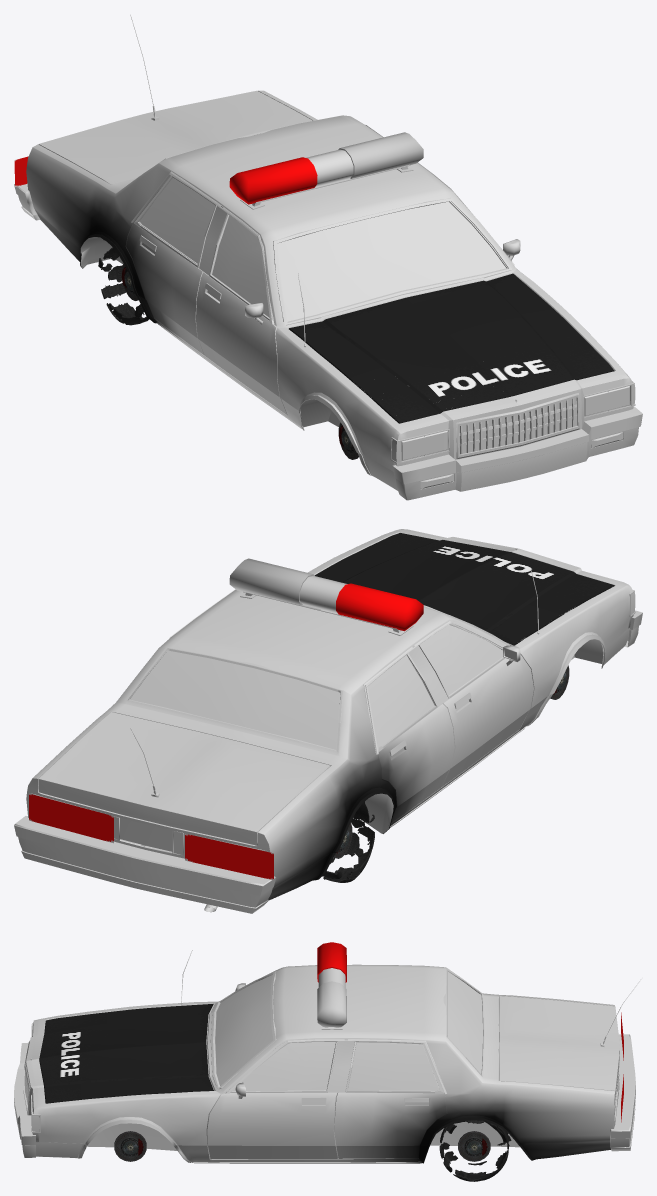
File: 14_PoliceCar.fbx
3 views of the same model, one above another, from view 1: azimuth 30°, elevation 25°; view 2: azimuth 150°, elevation 25°; view 3: azimuth 270°, elevation 25° (orthographic). The views are drawn at different scales.
Visible parts, largest first — view 1: Body_Duco, Kit_00_duco, Body_Glass, Body_Chrome, Body_Matte, Body_Glossy, RedLight, BlueLight, Kit_Chrome; view 2: Body_Duco, Body_Glass, Body_Chrome, Kit_00_duco, BrakeLights, RedLight, BlueLight, Kit_Chrome, Body_Matte; view 3: Body_Duco, Kit_00_duco, Body_Glass, Body_Chrome, Body_Matte, Rotor (×2), BlueLight, RedLight, Kit_Chrome.
Part boxes in pixels (box(x1,y1,x2,y2)): Body_Duco: box(26, 90, 633, 490); Kit_00_duco: box(289, 273, 614, 423); Body_Glass: box(139, 178, 505, 321); Body_Chrome: box(14, 115, 642, 500); Body_Matte: box(43, 223, 577, 490); Body_Glossy: box(391, 384, 635, 488); RedLight: box(229, 157, 317, 204); BlueLight: box(338, 132, 423, 178); Kit_Chrome: box(130, 14, 413, 209); Body_Duco: box(26, 529, 633, 900); Body_Glass: box(130, 623, 502, 749); Body_Chrome: box(14, 571, 642, 913); Kit_00_duco: box(315, 533, 614, 645); BrakeLights: box(29, 793, 273, 880); RedLight: box(336, 583, 423, 631); BlueLight: box(229, 558, 314, 605); Kit_Chrome: box(130, 575, 413, 797); Body_Matte: box(120, 639, 623, 912); Body_Duco: box(25, 964, 619, 1162); Kit_00_duco: box(39, 1004, 213, 1103); Body_Glass: box(215, 971, 481, 1092); Body_Chrome: box(14, 950, 635, 1163); Body_Matte: box(39, 1077, 519, 1157); Rotor (×2): box(114, 1131, 490, 1161); BlueLight: box(317, 981, 346, 1027); RedLight: box(317, 942, 346, 982); Kit_Chrome: box(318, 968, 642, 1046).
Size of the model in its own units: 2.14 by 1.55 by 5.39.
